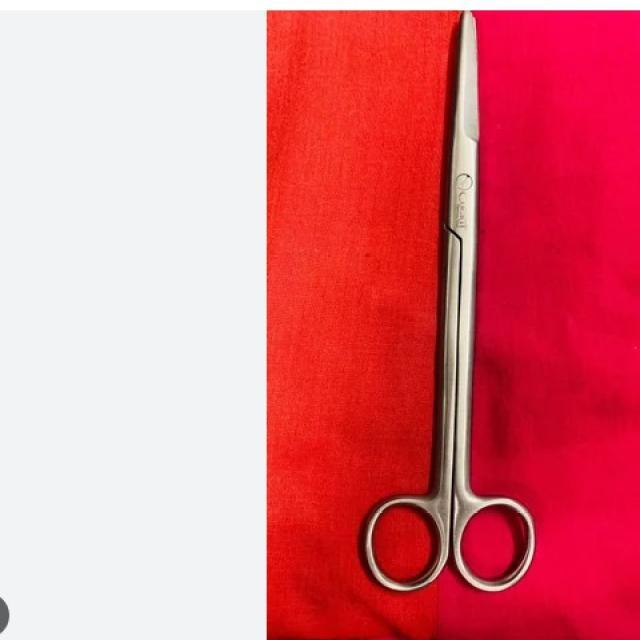Metzenbaum Sciccors: (358, 11, 538, 596)
